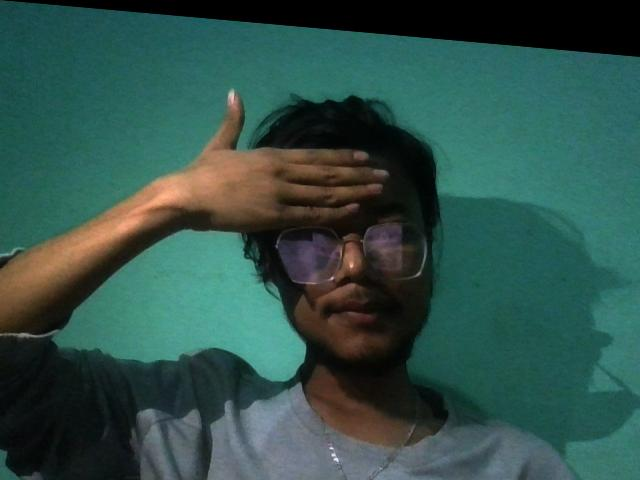forget: (138, 65, 427, 256)
